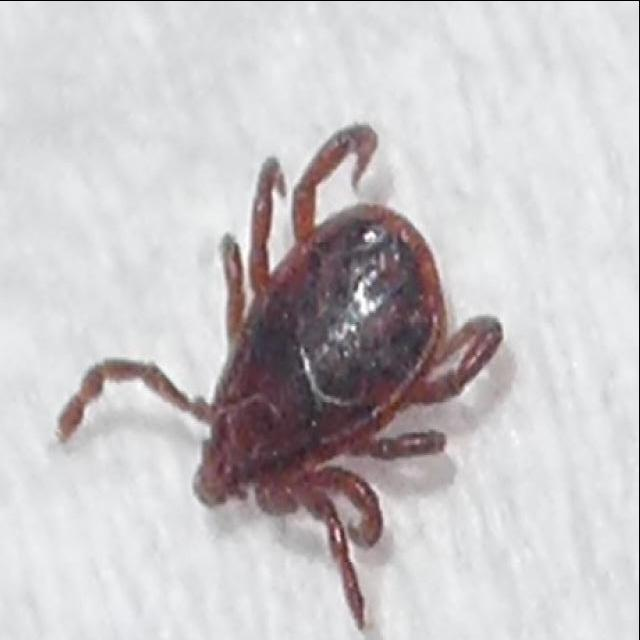Rhipicephalus Sanguineus-M: (56, 124, 506, 632)
